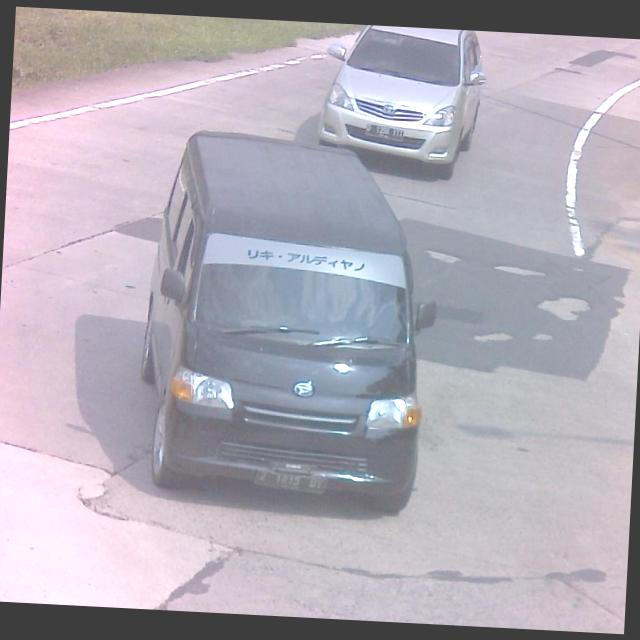plate: (255, 467, 328, 494)
